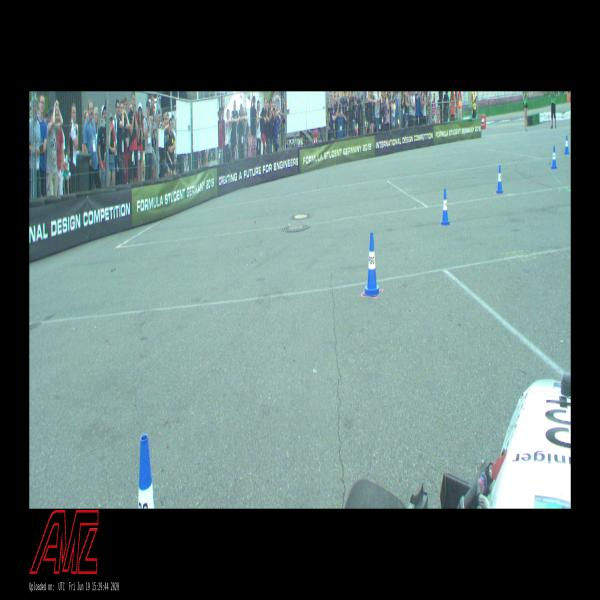blue_cone: (138, 434, 155, 508), (363, 232, 381, 297), (441, 188, 450, 225), (496, 164, 503, 193), (551, 146, 557, 170), (564, 135, 570, 155)
